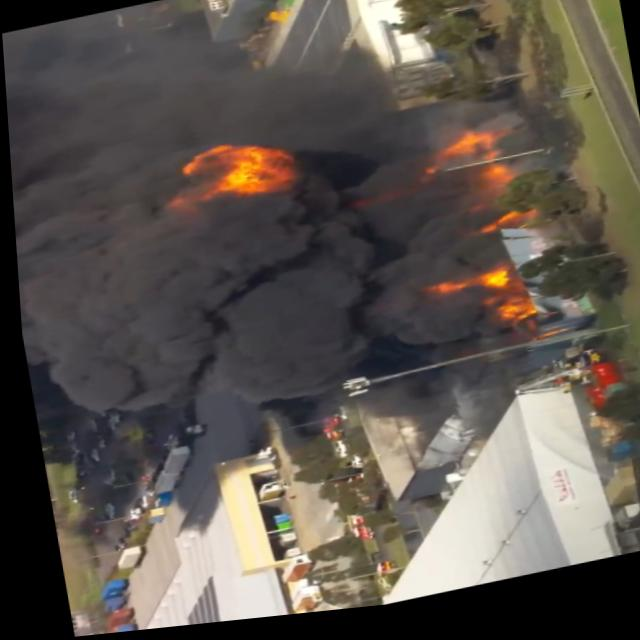Fire: (157, 133, 297, 226), (428, 134, 521, 219), (427, 275, 507, 309), (478, 300, 535, 342)
